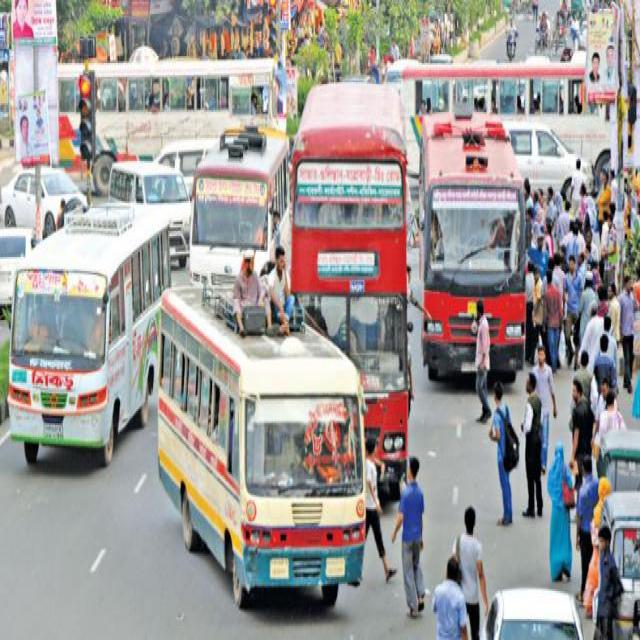10: (505, 12, 519, 58)
13: (534, 10, 552, 56), (550, 6, 566, 53)
17: (602, 486, 638, 635), (594, 422, 638, 489)
Truck: (156, 276, 368, 610), (289, 74, 407, 503), (6, 198, 172, 470), (416, 104, 526, 386), (54, 53, 278, 169), (185, 121, 289, 286)
